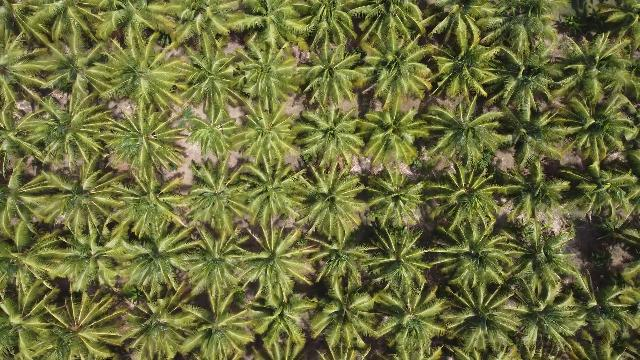trees: (500, 274, 593, 359), (18, 91, 114, 173), (23, 164, 124, 239), (89, 33, 186, 111), (427, 219, 520, 300), (25, 290, 131, 360), (436, 280, 525, 360), (359, 20, 436, 111), (425, 160, 513, 238), (107, 226, 198, 301), (232, 152, 314, 234), (554, 95, 638, 175), (427, 21, 503, 108), (556, 30, 637, 111), (358, 227, 440, 306), (14, 2, 123, 60), (311, 280, 390, 360), (32, 224, 118, 297), (290, 162, 367, 242), (369, 284, 450, 360), (177, 228, 255, 306), (98, 107, 186, 176), (173, 290, 259, 360), (230, 100, 306, 177), (426, 99, 508, 170), (175, 41, 247, 120), (176, 161, 248, 238), (471, 3, 561, 64), (500, 161, 574, 235), (497, 101, 575, 169), (508, 229, 585, 297), (121, 296, 202, 360), (232, 42, 303, 115), (246, 287, 316, 359), (357, 103, 430, 171), (361, 166, 431, 236), (297, 43, 367, 112), (293, 106, 366, 172), (567, 164, 640, 228), (302, 231, 373, 296), (3, 33, 66, 98), (236, 3, 315, 52), (167, 2, 244, 50), (356, 3, 429, 50), (2, 174, 50, 243), (3, 273, 58, 323)
